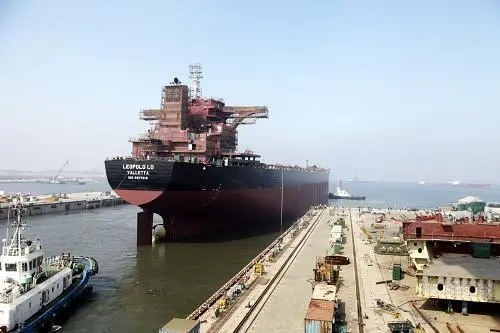Cargoship: (104, 62, 331, 242)
otherboat: (327, 178, 366, 200)
